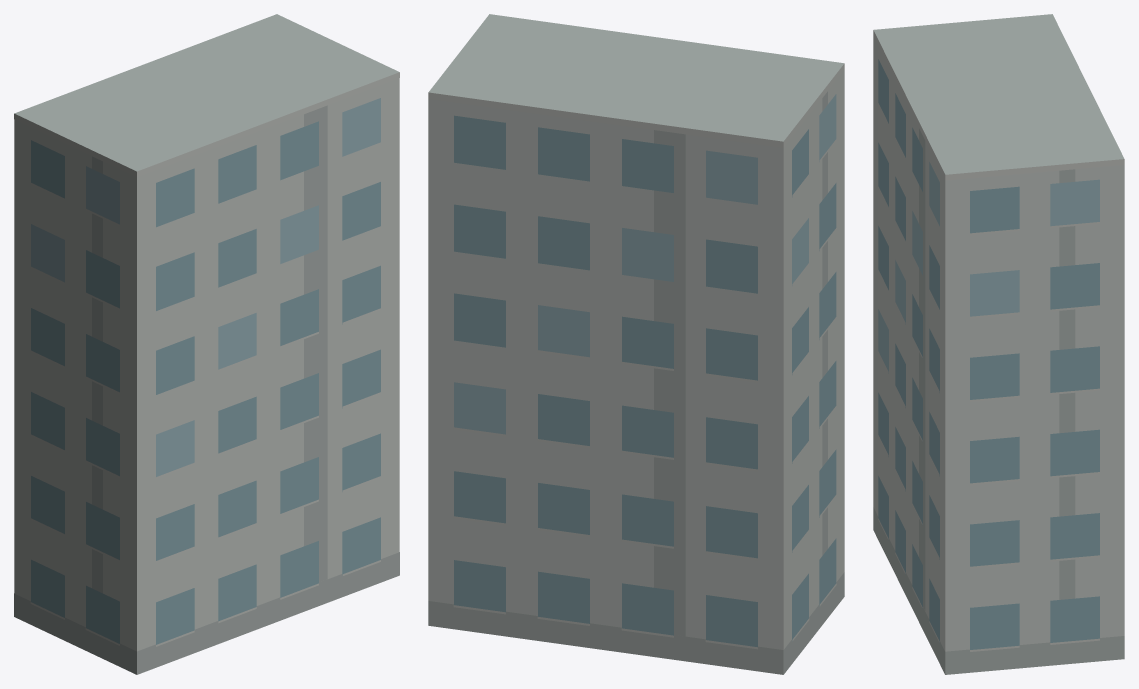
Rendered from survey-upis-32629344.glb.
3 renders of one model, left to right at view 1: azimuth 30°, elevation 25°; view 2: azimuth 150°, elevation 25°; view 3: azimuth 270°, elevation 25°, orthographic. The views are drawn at different scales.
Visible parts, largest first — view 1: survey-upis-32629344.tmp; view 2: survey-upis-32629344.tmp; view 3: survey-upis-32629344.tmp.
Part boxes in pixels (x1,y1,x2,y2): survey-upis-32629344.tmp: (14,14,399,674); survey-upis-32629344.tmp: (428,14,844,674); survey-upis-32629344.tmp: (873,14,1124,674).
Bounding box in the file's own units: 14.14 × 20.5 × 9.34.
